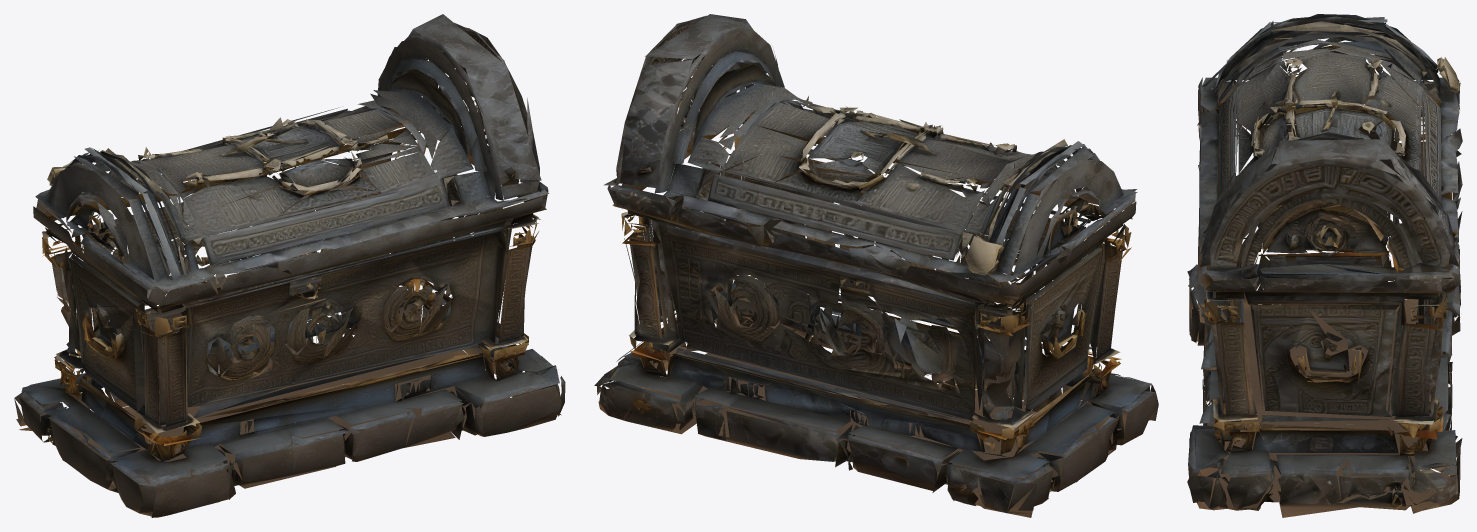
The model's file is ch7_optional_tomb_sarcophagus_LOD2.glb.
3 views of the same model, side by side, from view 1: azimuth 30°, elevation 25°; view 2: azimuth 150°, elevation 25°; view 3: azimuth 270°, elevation 25° (orthographic). The views are drawn at different scales.
Parts seen in each view (by area): view 1: tripo_node_d0dc9616-0aa3-4cdb-b869-7b7e4bd80c04; view 2: tripo_node_d0dc9616-0aa3-4cdb-b869-7b7e4bd80c04; view 3: tripo_node_d0dc9616-0aa3-4cdb-b869-7b7e4bd80c04.
Boxes of the visible parts, box(x1,y1,x2,y2) form: tripo_node_d0dc9616-0aa3-4cdb-b869-7b7e4bd80c04: box(14, 14, 565, 517); tripo_node_d0dc9616-0aa3-4cdb-b869-7b7e4bd80c04: box(594, 14, 1158, 517); tripo_node_d0dc9616-0aa3-4cdb-b869-7b7e4bd80c04: box(1187, 14, 1462, 517).
Size of the model in its own units: 1.01 by 0.7821 by 0.5447.
Materials: 1 (1 with a texture image).
